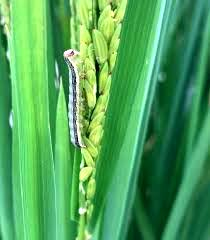Caterpillar: (60, 44, 93, 151)
